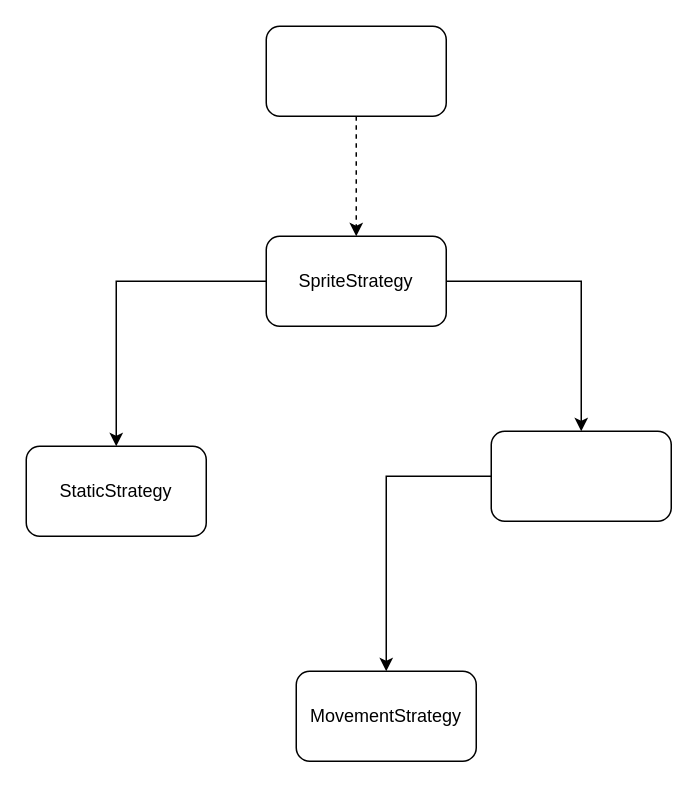
Some shapes in this 698 by 788 pixel diagram are drawn without their labels. The centre of each missing label's shape, as x and y in pixels:
SpriteController: point (355, 70)
UpdatedStrategy: point (580, 475)
